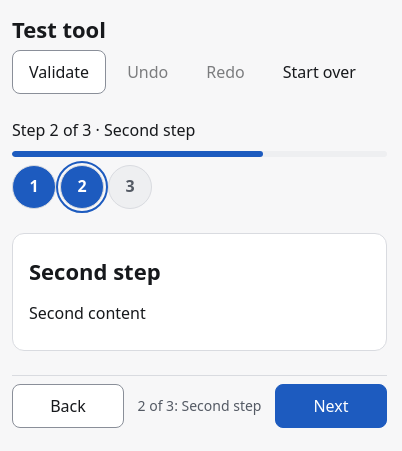
Test: Wizard › compact stepper: completed steps can be tapped, later ones cannot
This screenshot has width=402, height=451.
Expected: the button named "Go to step 3: Third step" is disabled, [108, 165, 152, 209]
Click the button named "Go to step 1: First step". click: (34, 187)
box: [12, 165, 56, 209]
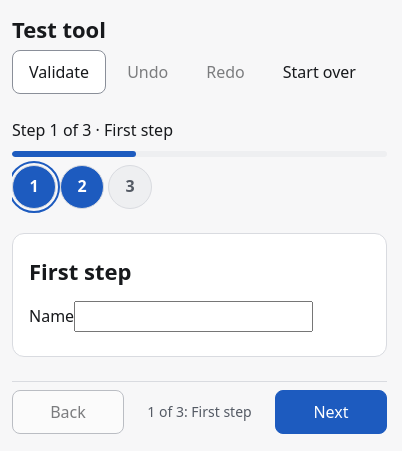
Result: the heading reads "First step" at [29, 256, 131, 286]
Click the button named "Go to step 2: Second step". click: (82, 187)
box: [60, 165, 104, 209]
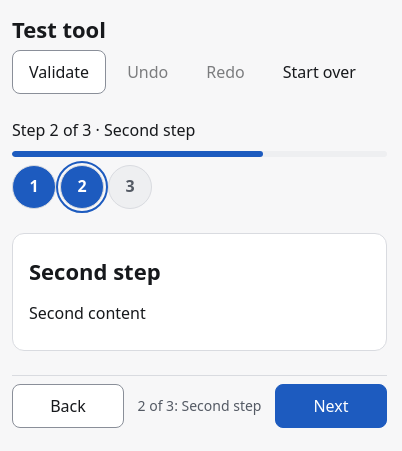
Result: the heading reads "Second step" at [29, 256, 161, 286]
